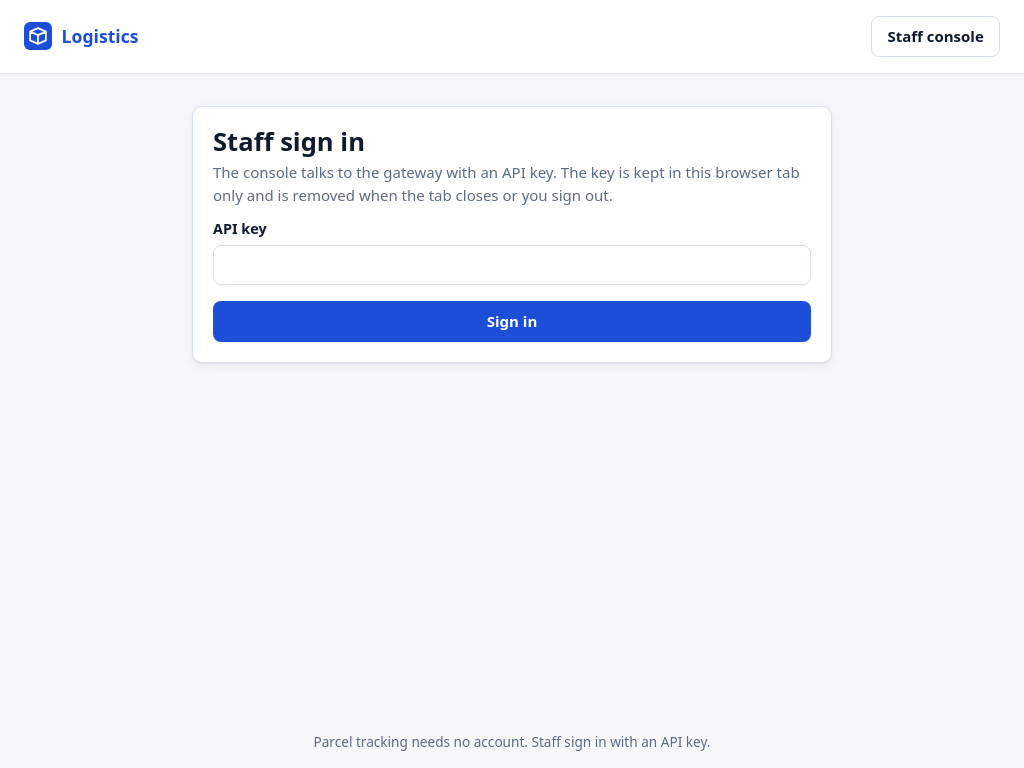
Scenario: sign in › does not store a key the gateway refuses
Type "wrong-key-0123456789" into the password field labelled "API key" at (512, 265), box [213,245,811,285]
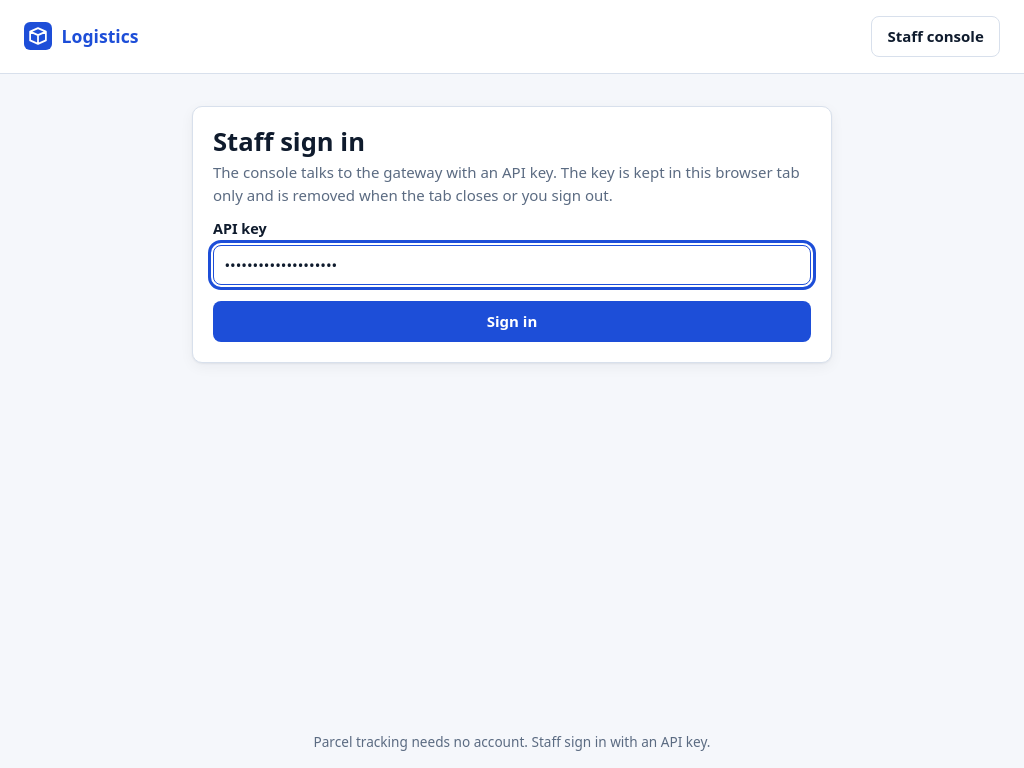
Click the button "Sign in" at (512, 321), box [213,301,811,342]
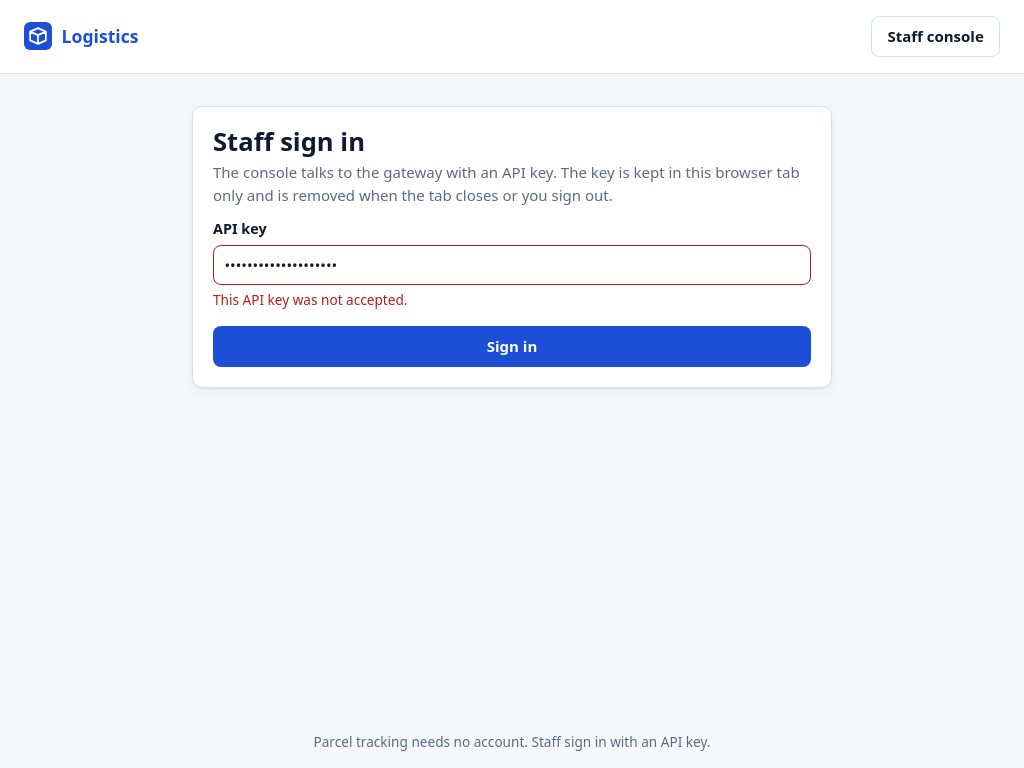
Result: the text "This API key was not accepted." is shown at [213,290,407,309]
